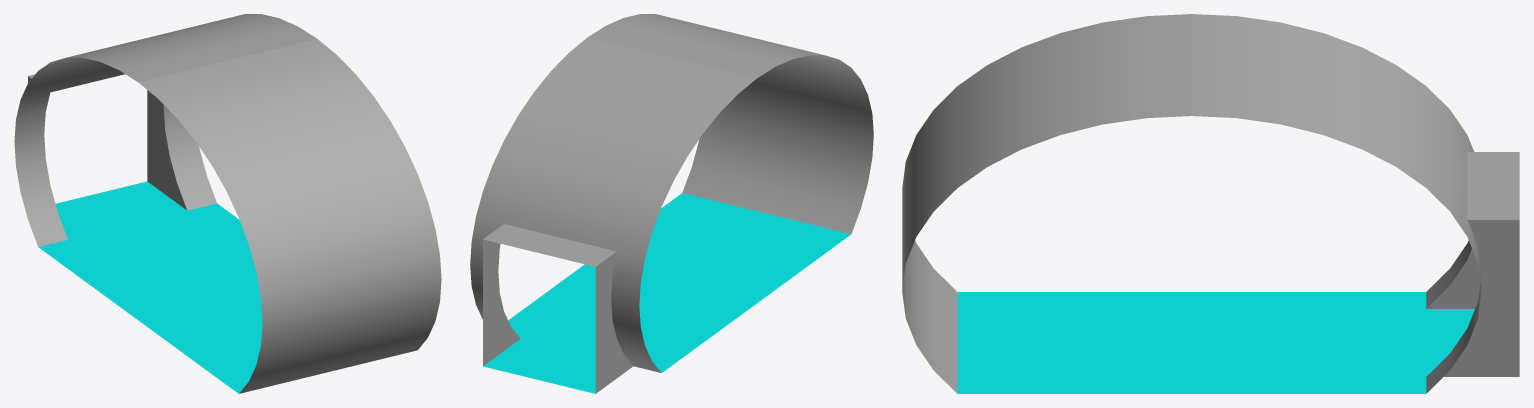
Rendered from sm_tunnel_doorway.fbx.
3 renders of one model, left to right at view 1: azimuth 30°, elevation 25°; view 2: azimuth 150°, elevation 25°; view 3: azimuth 270°, elevation 25°, orthographic. The views are drawn at different scales.
Visible parts, largest first — view 1: sm_tunnel_doorway; view 2: sm_tunnel_doorway; view 3: sm_tunnel_doorway.
Part boxes in pixels (x1=…): sm_tunnel_doorway: x1=14, y1=14, x2=441, y2=393; sm_tunnel_doorway: x1=470, y1=14, x2=873, y2=393; sm_tunnel_doorway: x1=902, y1=14, x2=1519, y2=393.
Size of the model in its own units: 10 by 12.7 by 25.58.
